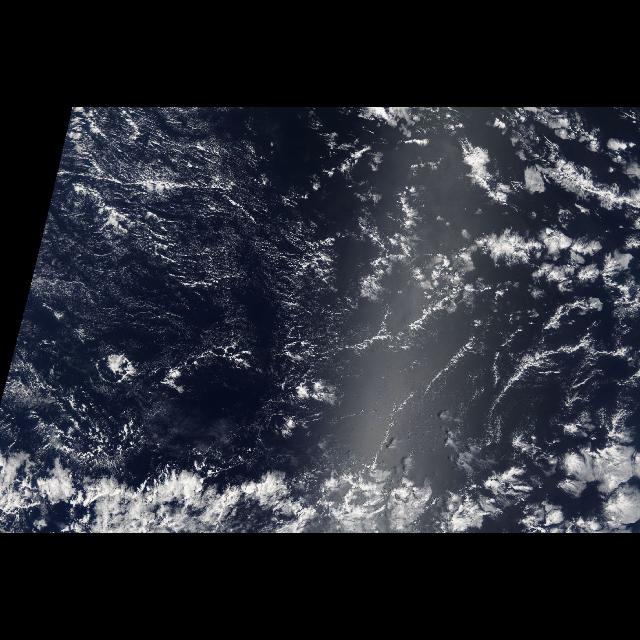Flower: (449, 134, 639, 360)
Sugar: (19, 107, 358, 353)
